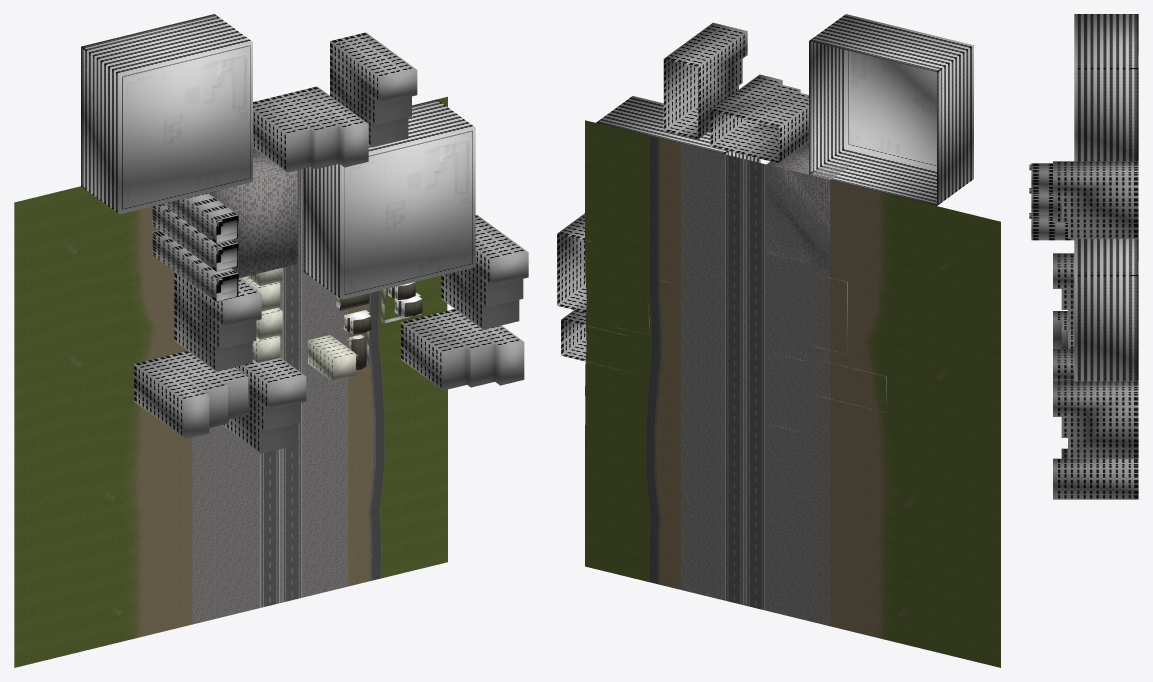
Rendered from stage-1-1.fbx.
3 views of the same model, side by side, from view 1: azimuth 30°, elevation 25°; view 2: azimuth 150°, elevation 25°; view 3: azimuth 270°, elevation 25° (orthographic). The views are drawn at different scales.
Parts seen in each view (by area): view 1: Ground; view 2: Ground; view 3: Ground.
Boxes of the visible parts, <box> form: Ground: <box>14,14,528,667</box>; Ground: <box>557,14,1000,667</box>; Ground: <box>1029,14,1138,499</box>.
Size of the model in its own units: 208 by 260 by 51.1.
Materials: 18 (18 with a texture image).
